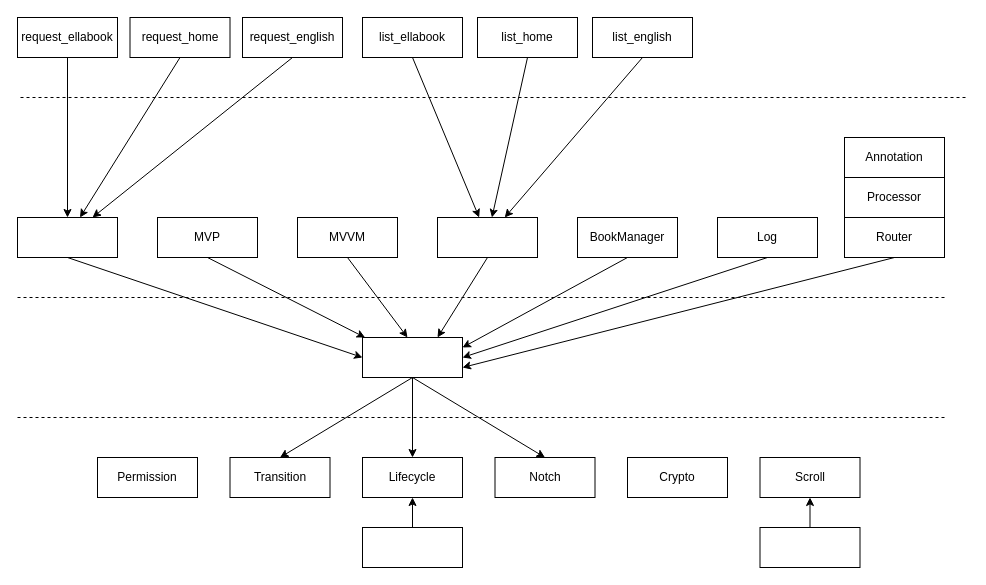
The diagram is 986 pixels wide and 585 high, and some of its shapes have lost their labels. The centre of each missing label's shape, as x and y in pixels:
Base: pixel 412 357
Extend:appbar: pixel 809 547
Extend:EventBus: pixel 412 547
List: pixel 487 237
Request: pixel 67 237
